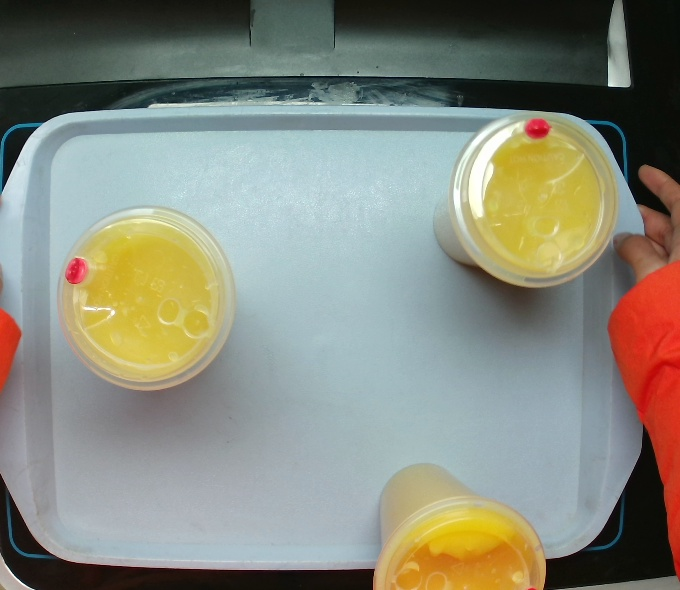wcq-ChengZhi: (54, 201, 240, 396), (430, 109, 621, 292), (371, 460, 549, 590)
